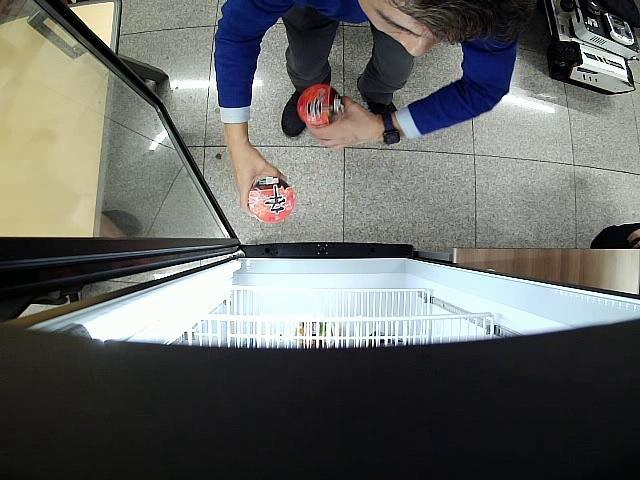02_shinRamen_S: (248, 175, 294, 224), (298, 85, 344, 128)
